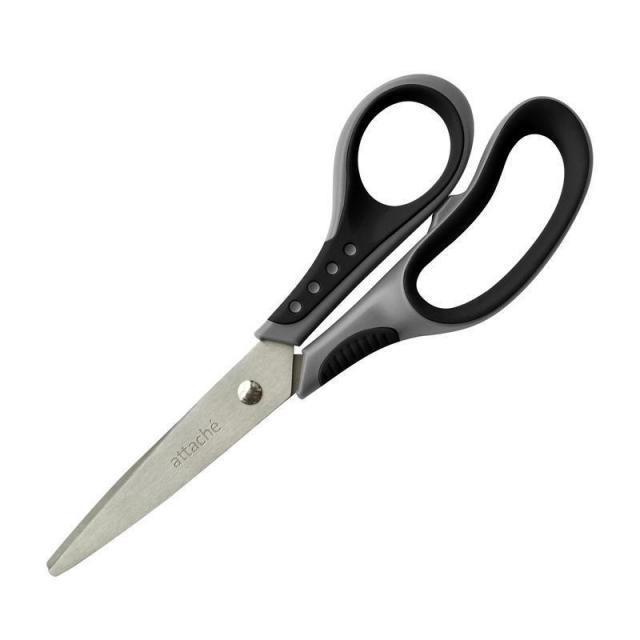scissors: (42, 68, 597, 582)
